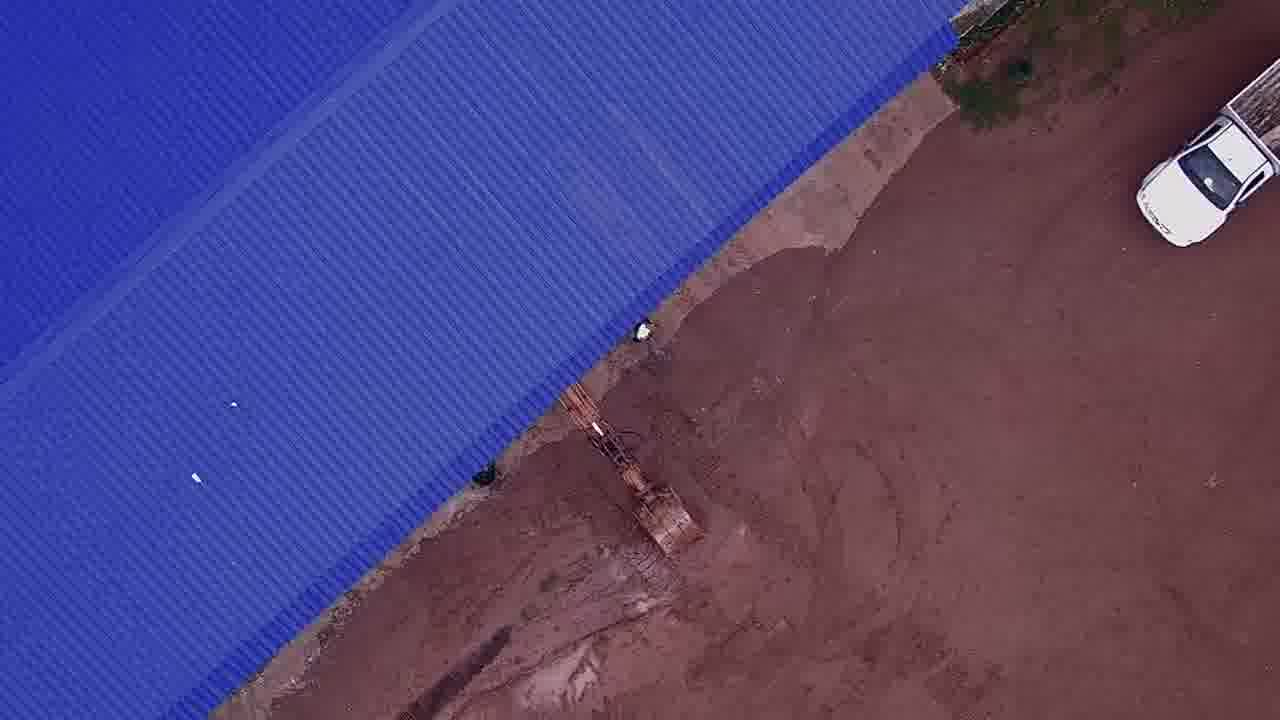LMV: (1136, 56, 1278, 248)
Person: (631, 314, 656, 351)
